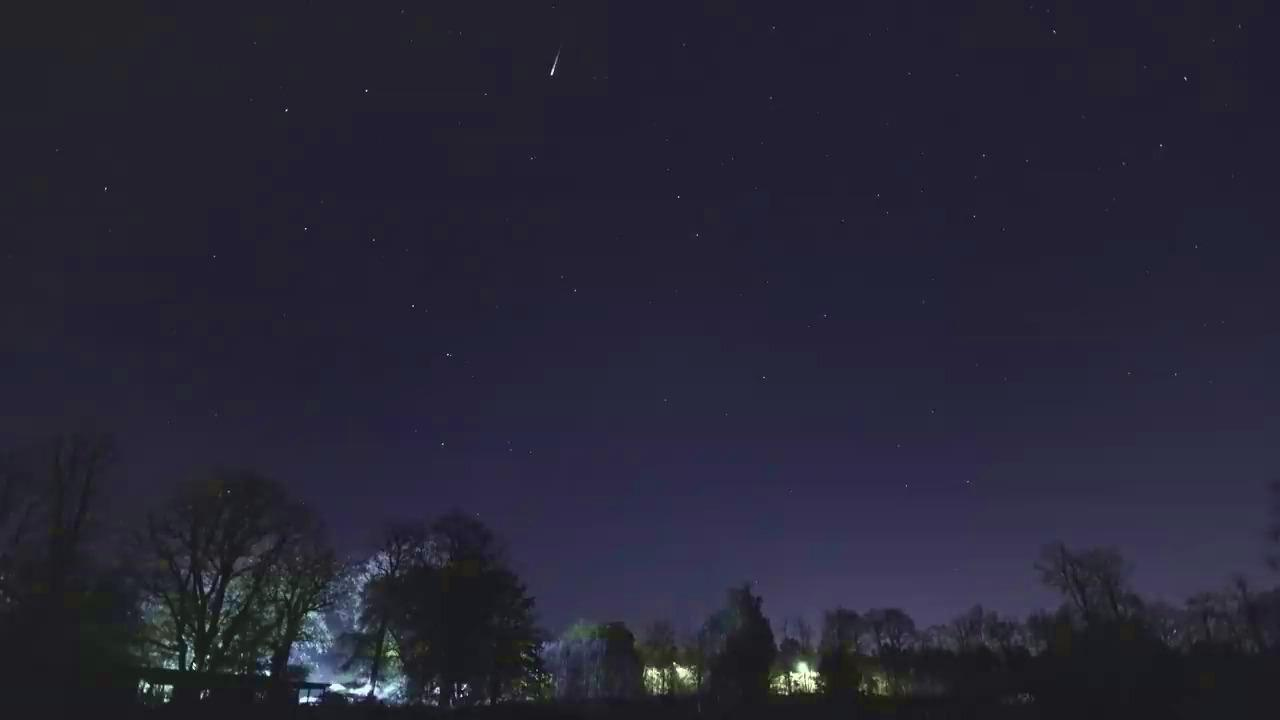meteorite: (503, 47, 612, 80)
